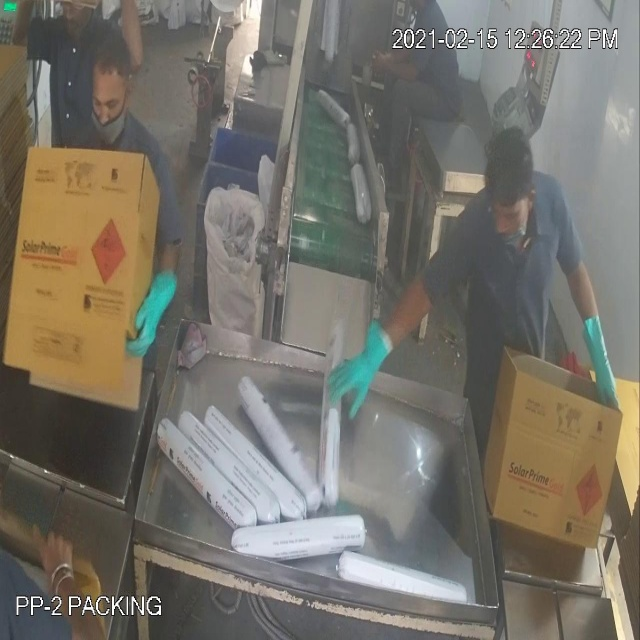Guantes: (318, 314, 387, 422), (123, 259, 178, 367), (582, 301, 625, 420)
Sin_guantes: (29, 511, 95, 633), (362, 38, 427, 97)
